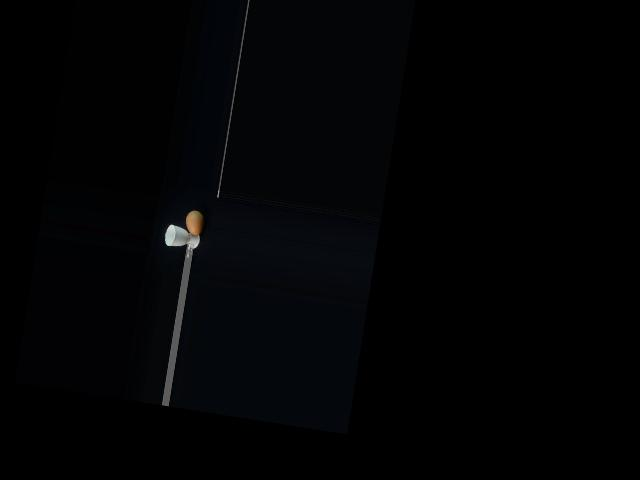egg: (183, 209, 204, 236)
